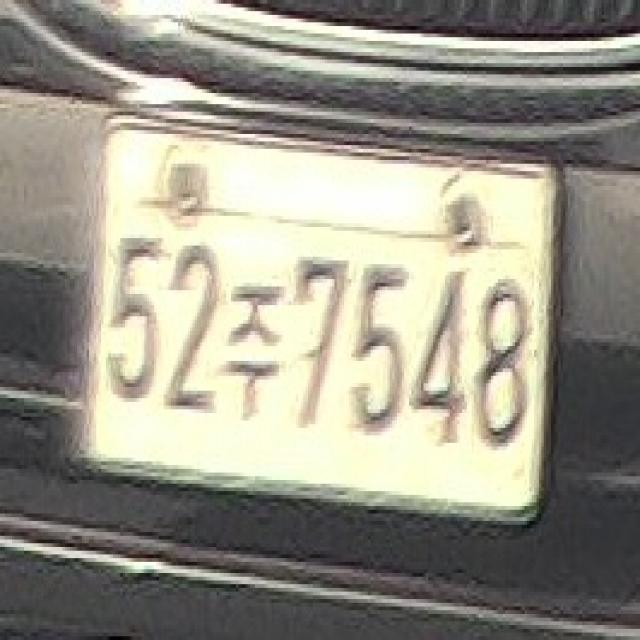2: (168, 242, 220, 418)
4: (411, 272, 468, 452)
5: (347, 258, 408, 437), (108, 226, 162, 404)
7: (280, 246, 346, 426)
8: (468, 276, 536, 449)
ju: (230, 278, 280, 421)
license_plate: (70, 97, 577, 545)
